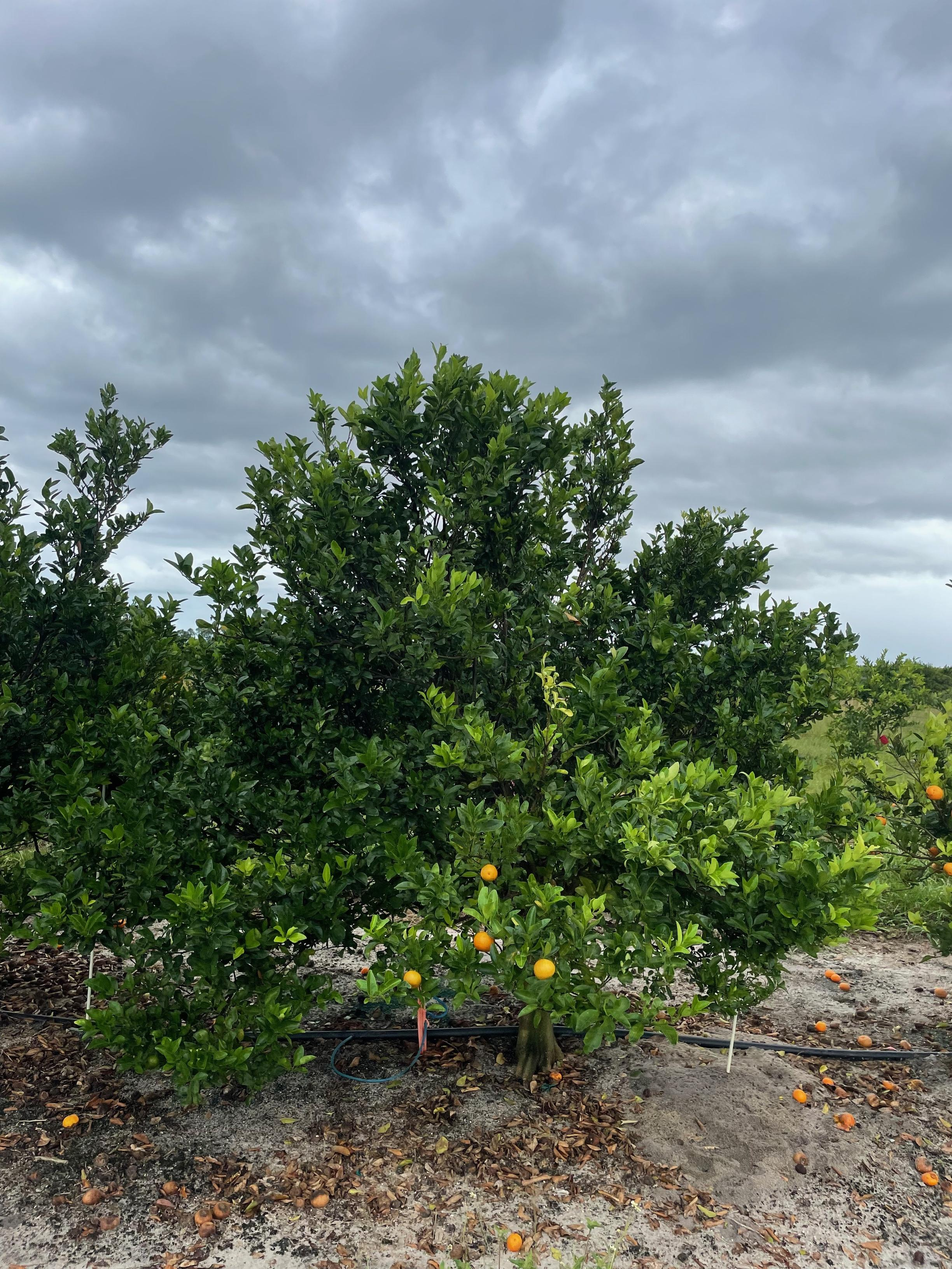fruit_on_ground: (531, 956, 558, 982), (471, 929, 496, 953), (401, 968, 425, 989), (479, 862, 499, 883), (924, 783, 945, 802), (871, 812, 888, 828), (926, 843, 942, 858), (931, 858, 944, 872), (941, 862, 952, 877)
fruit_on_tree: (504, 1230, 526, 1253), (80, 1186, 103, 1207), (192, 1206, 215, 1227), (834, 1110, 857, 1130), (919, 1168, 941, 1188), (309, 1190, 331, 1208), (213, 1199, 233, 1218), (196, 1220, 217, 1238), (60, 1111, 81, 1129), (914, 1154, 934, 1172), (160, 1178, 178, 1196), (791, 1086, 808, 1103), (792, 1148, 808, 1166), (856, 1032, 874, 1047), (933, 985, 950, 1000), (548, 1068, 564, 1083), (821, 1073, 836, 1087), (813, 1019, 828, 1033), (838, 979, 853, 992), (823, 967, 836, 979), (829, 972, 842, 984)
